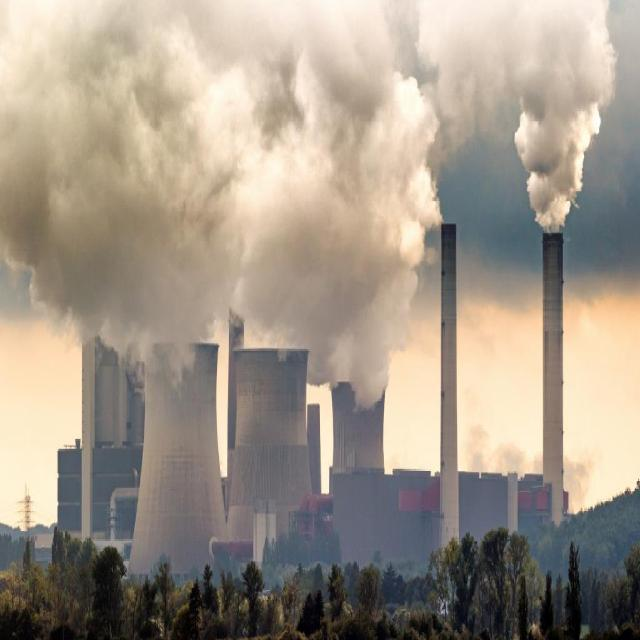Smoke: (0, 0, 617, 410)
